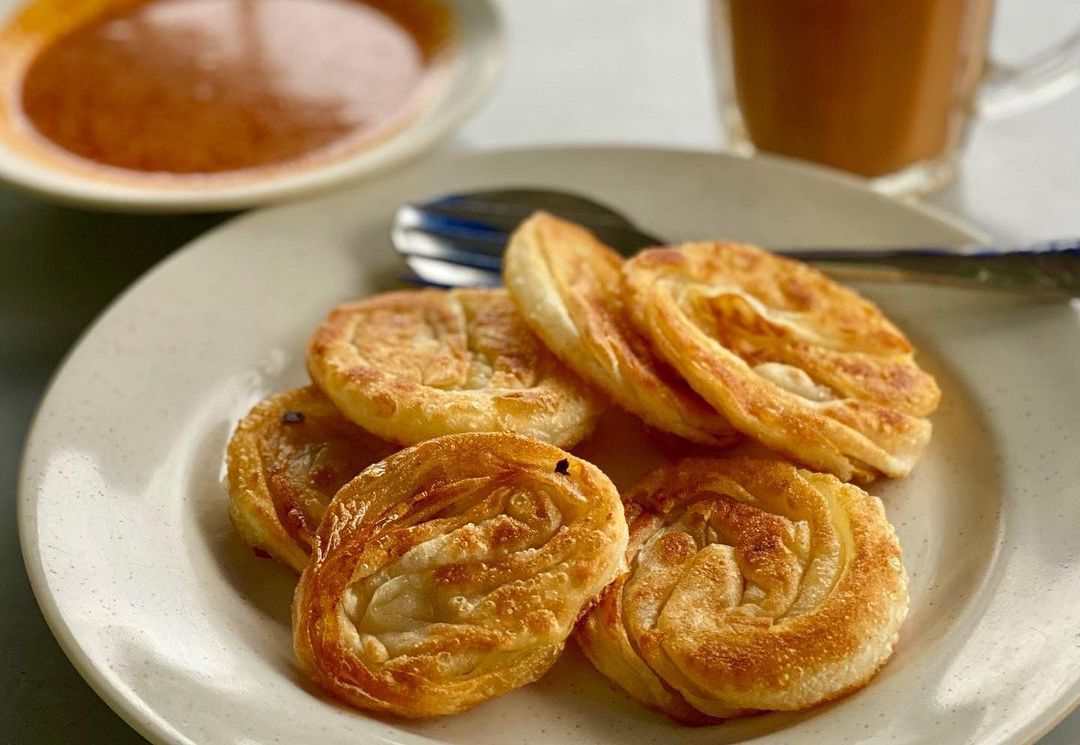Prata: (274, 436, 631, 720), (600, 233, 968, 484), (553, 457, 897, 695), (485, 204, 746, 462), (310, 272, 611, 445)
